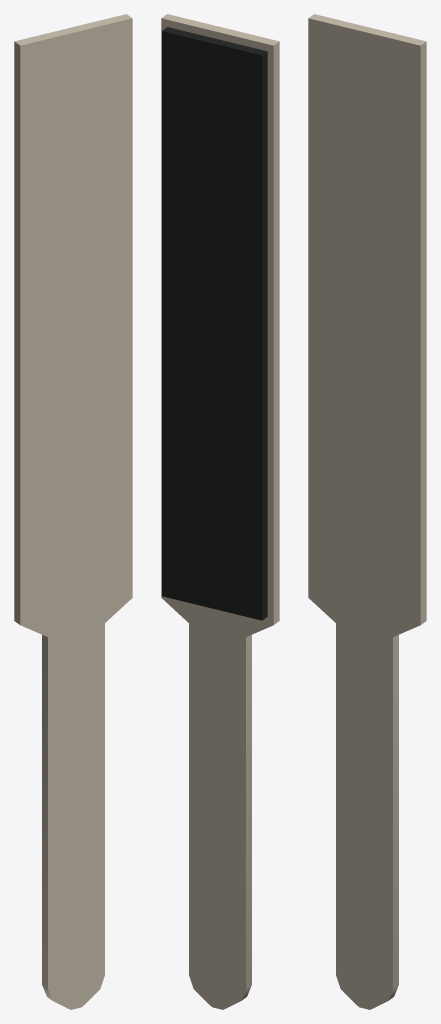
File: Tools File.glb
3 views of the same model, side by side, from view 1: azimuth 30°, elevation 25°; view 2: azimuth 150°, elevation 25°; view 3: azimuth 330°, elevation 25° (orthographic).
Visible parts, largest first — view 1: tools_file.001; view 2: tools_file.001; view 3: tools_file.001.
Part boxes in pixels (x1=…): tools_file.001: x1=14, y1=14, x2=132, y2=1009; tools_file.001: x1=161, y1=14, x2=279, y2=1009; tools_file.001: x1=308, y1=14, x2=426, y2=1009.
Size of the model in its own units: 2.82 by 23.48 by 0.4971.
Materials: 1 (1 with a texture image).
